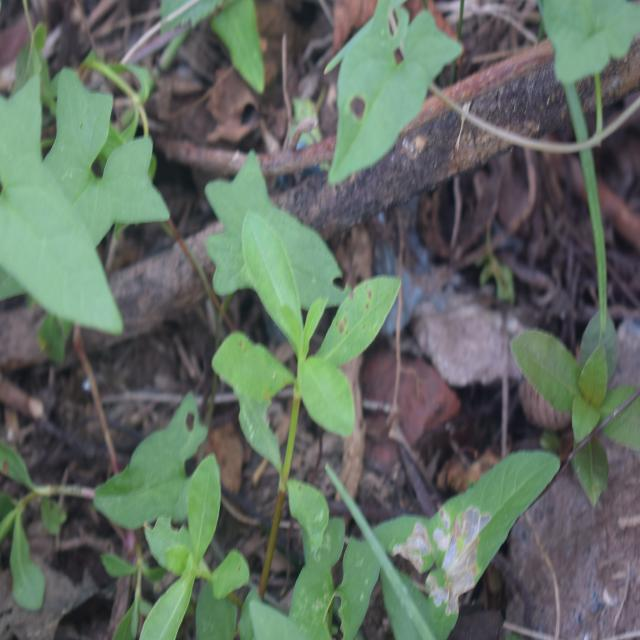Alligatorweed: (206, 225, 407, 469), (120, 456, 260, 631)
